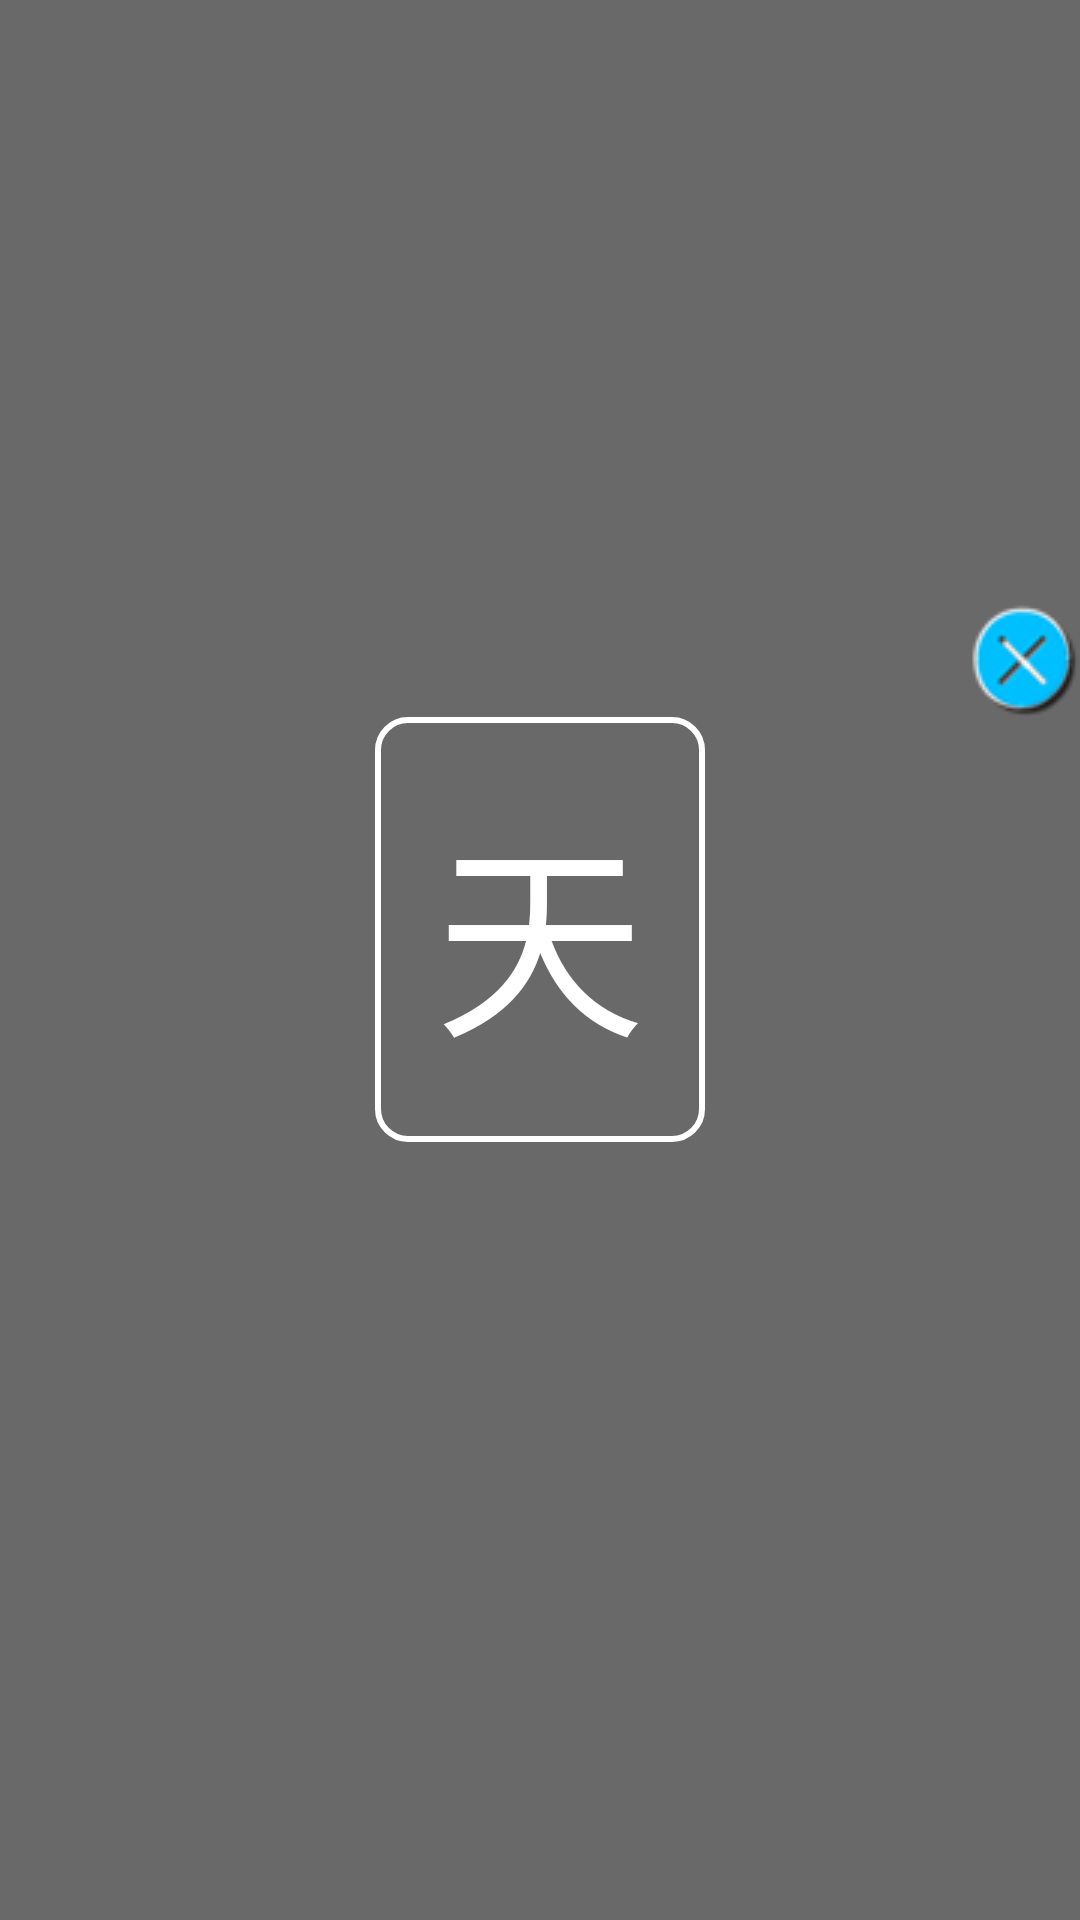

Where icons sit on this 1080 x 1920 app screen, as (x1, y1, x2, y2):
close: (972, 607, 1075, 714)
